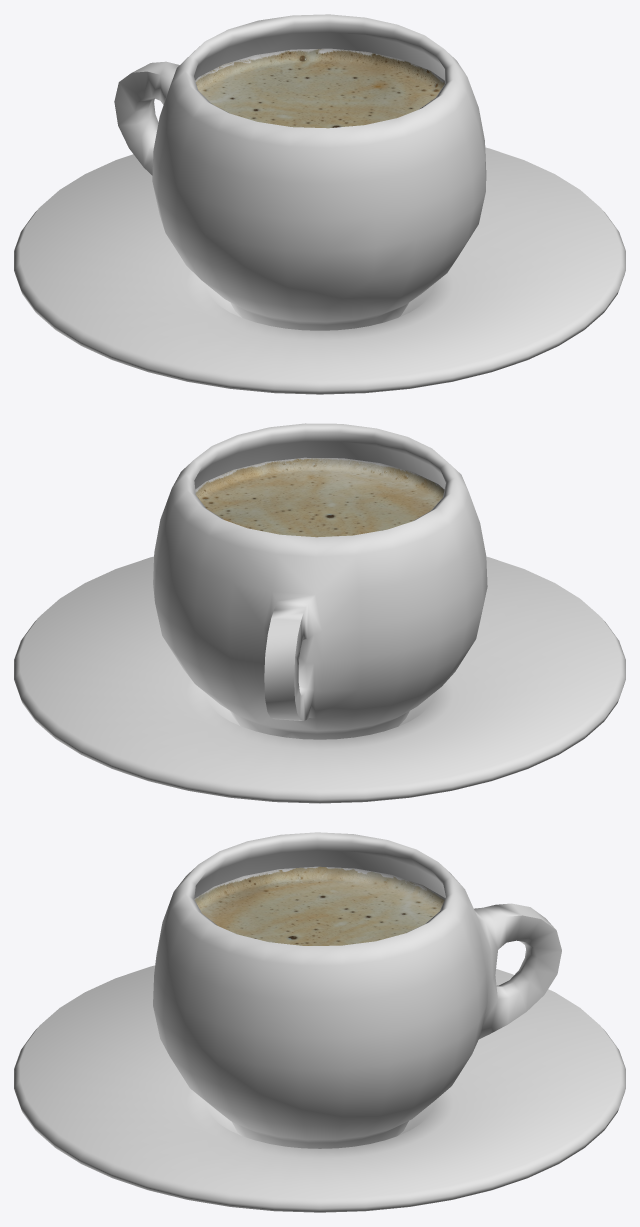
Rendered from coffee.obj.
The picture shows the model from 3 angles, top to bottom: view 1: azimuth 30°, elevation 25°; view 2: azimuth 150°, elevation 25°; view 3: azimuth 270°, elevation 25°; orthographic projection.
Visible parts, largest first — view 1: cup_low_Mesh, bludce_low_Mesh.002, pena_low_Mesh.001; view 2: bludce_low_Mesh.002, cup_low_Mesh, pena_low_Mesh.001; view 3: cup_low_Mesh, bludce_low_Mesh.002, pena_low_Mesh.001.
Part boxes in pixels (x1=…): cup_low_Mesh: x1=114, y1=14, x2=486, y2=330; bludce_low_Mesh.002: x1=14, y1=147, x2=625, y2=394; pena_low_Mesh.001: x1=195, y1=48, x2=444, y2=128; bludce_low_Mesh.002: x1=14, y1=556, x2=625, y2=803; cup_low_Mesh: x1=153, y1=423, x2=487, y2=739; pena_low_Mesh.001: x1=195, y1=457, x2=444, y2=537; cup_low_Mesh: x1=153, y1=832, x2=561, y2=1148; bludce_low_Mesh.002: x1=14, y1=965, x2=625, y2=1212; pena_low_Mesh.001: x1=194, y1=866, x2=445, y2=945.
Size of the model in its own units: 0.1465 by 0.0646 by 0.1461.
Materials: 1 (1 with a texture image).
